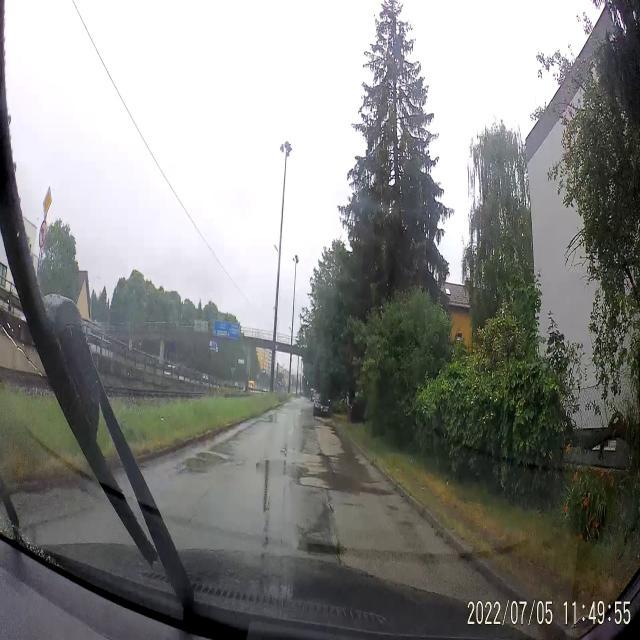Pothole: (298, 526, 352, 558)
